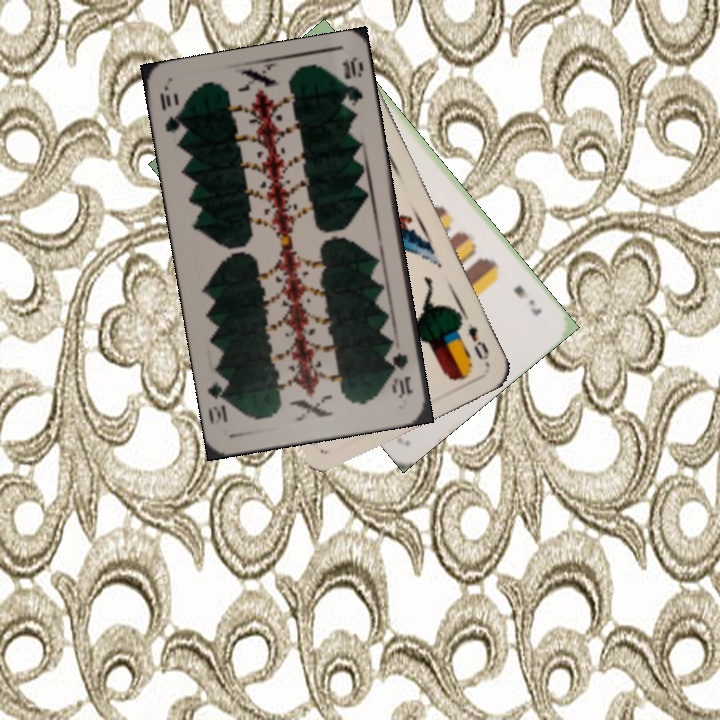E7: (509, 281, 544, 319)
EO: (463, 319, 492, 368)
G10: (155, 86, 186, 136), (387, 349, 416, 401)
